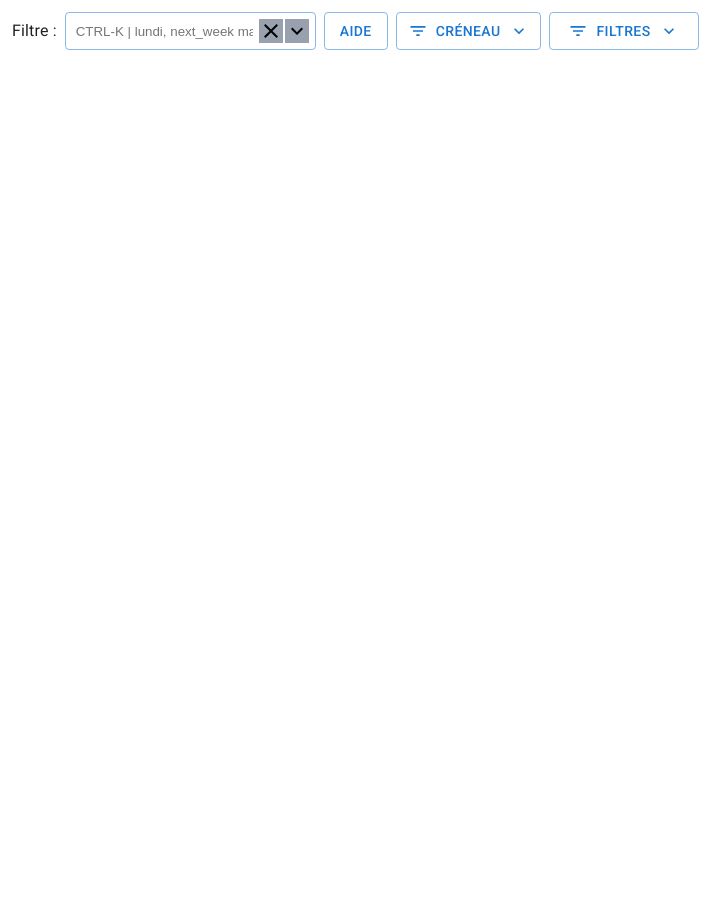
it: bad filter, check error message
The width and height of the screenshot is (716, 912).
Type "mardi mercredi" into the field labelled "Filtre :". click: (164, 31)
box: [72,20,257,42]
Then press Escape, Enter
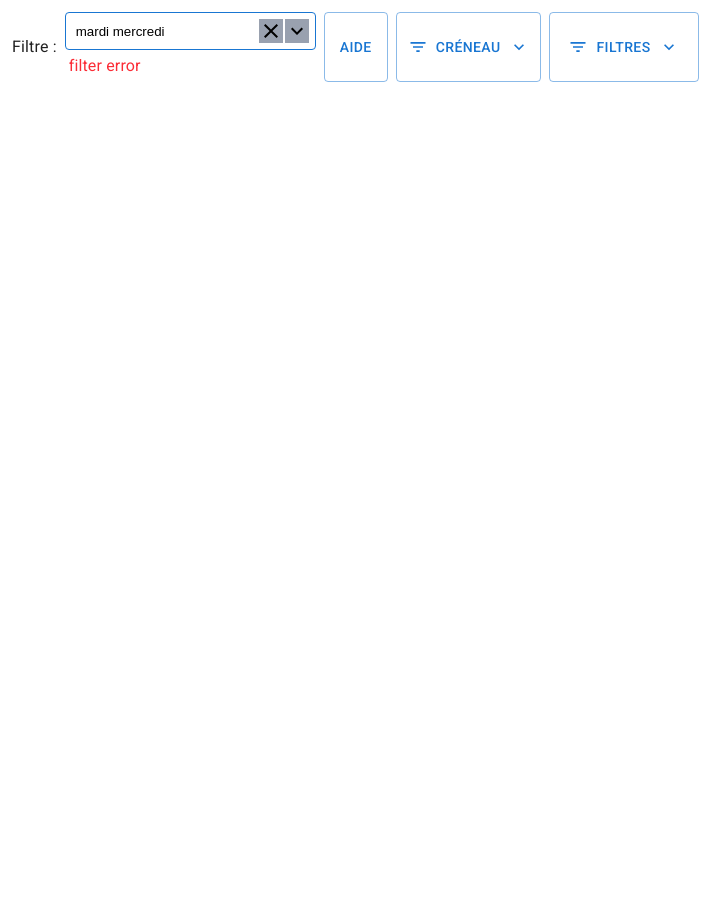
Check: the text "filter error" is shown, box [69,56,141,75]
Clear the field labelled "Filtre :". click: (164, 31)
box: [72,20,257,42]
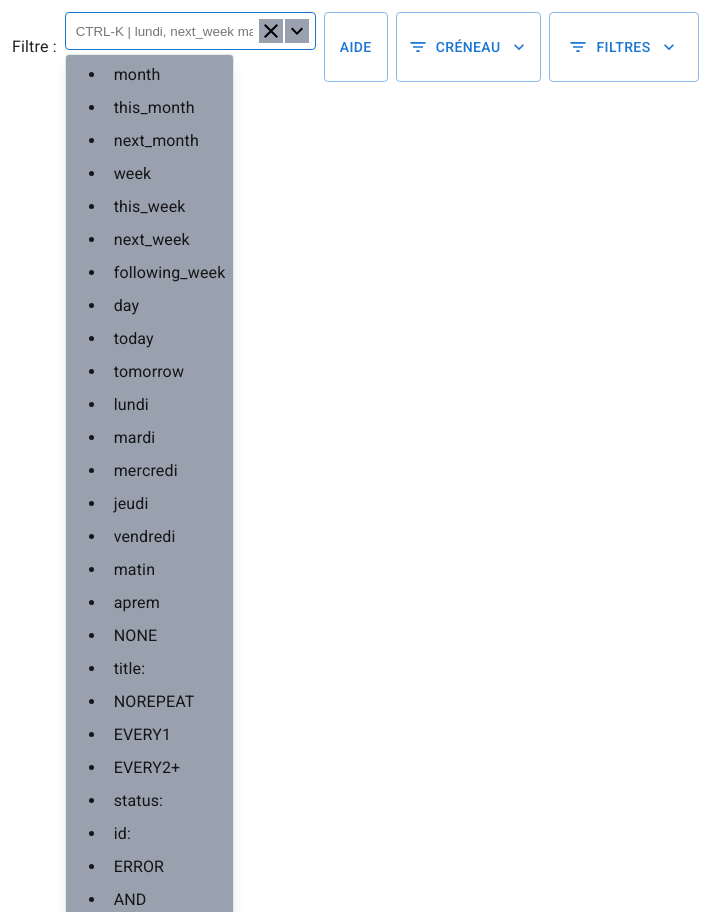
Press enter in the field labelled "Filtre :", box [72,20,257,42]
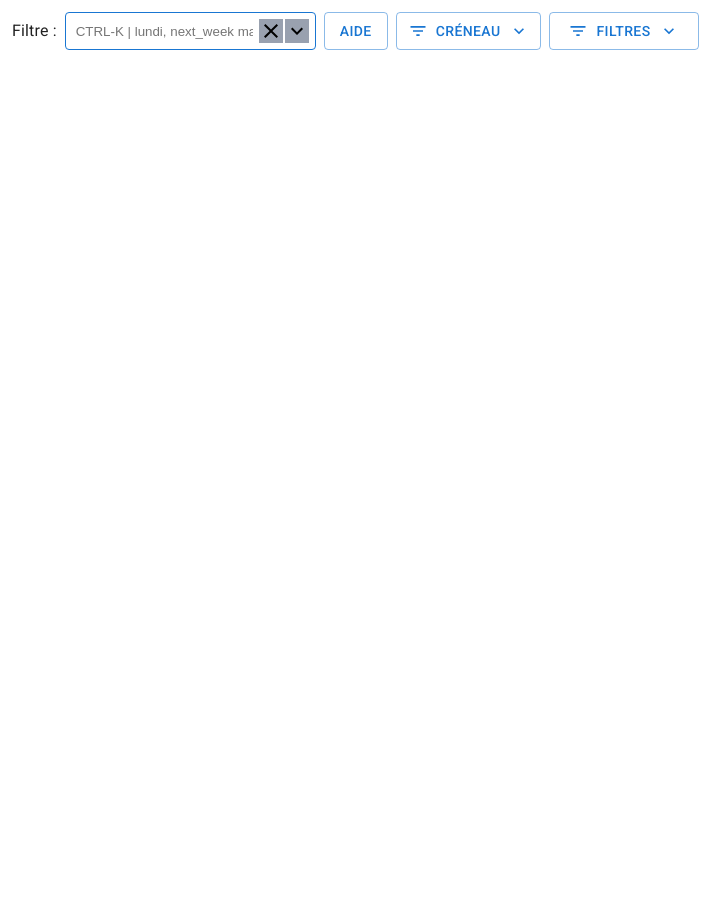
Check: the text "filter error" is gone
